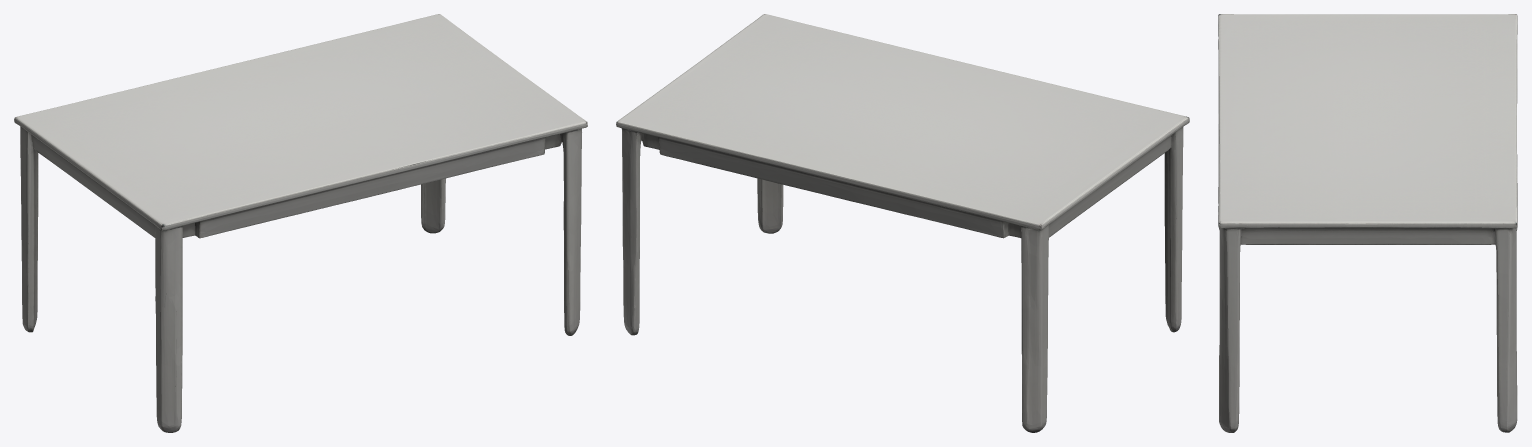
3 renders of one model, left to right at view 1: azimuth 30°, elevation 25°; view 2: azimuth 150°, elevation 25°; view 3: azimuth 270°, elevation 25°, orthographic.
Parts seen in each view (by area): view 1: world; view 2: world; view 3: world.
Boxes of the visible parts, x1=… form: world: x1=14, y1=14, x2=587, y2=432; world: x1=616, y1=14, x2=1189, y2=432; world: x1=1218, y1=14, x2=1517, y2=432.
Size of the model in its own units: 1.57 by 0.75 by 0.947.
Materials: 1 (1 with a texture image).
